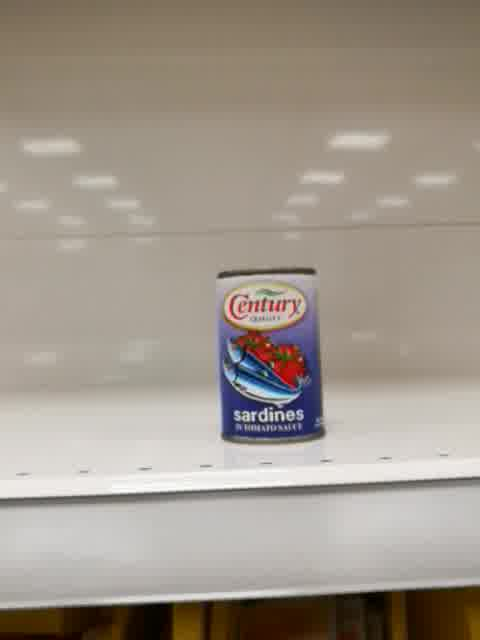sardine: (216, 267, 326, 446)
